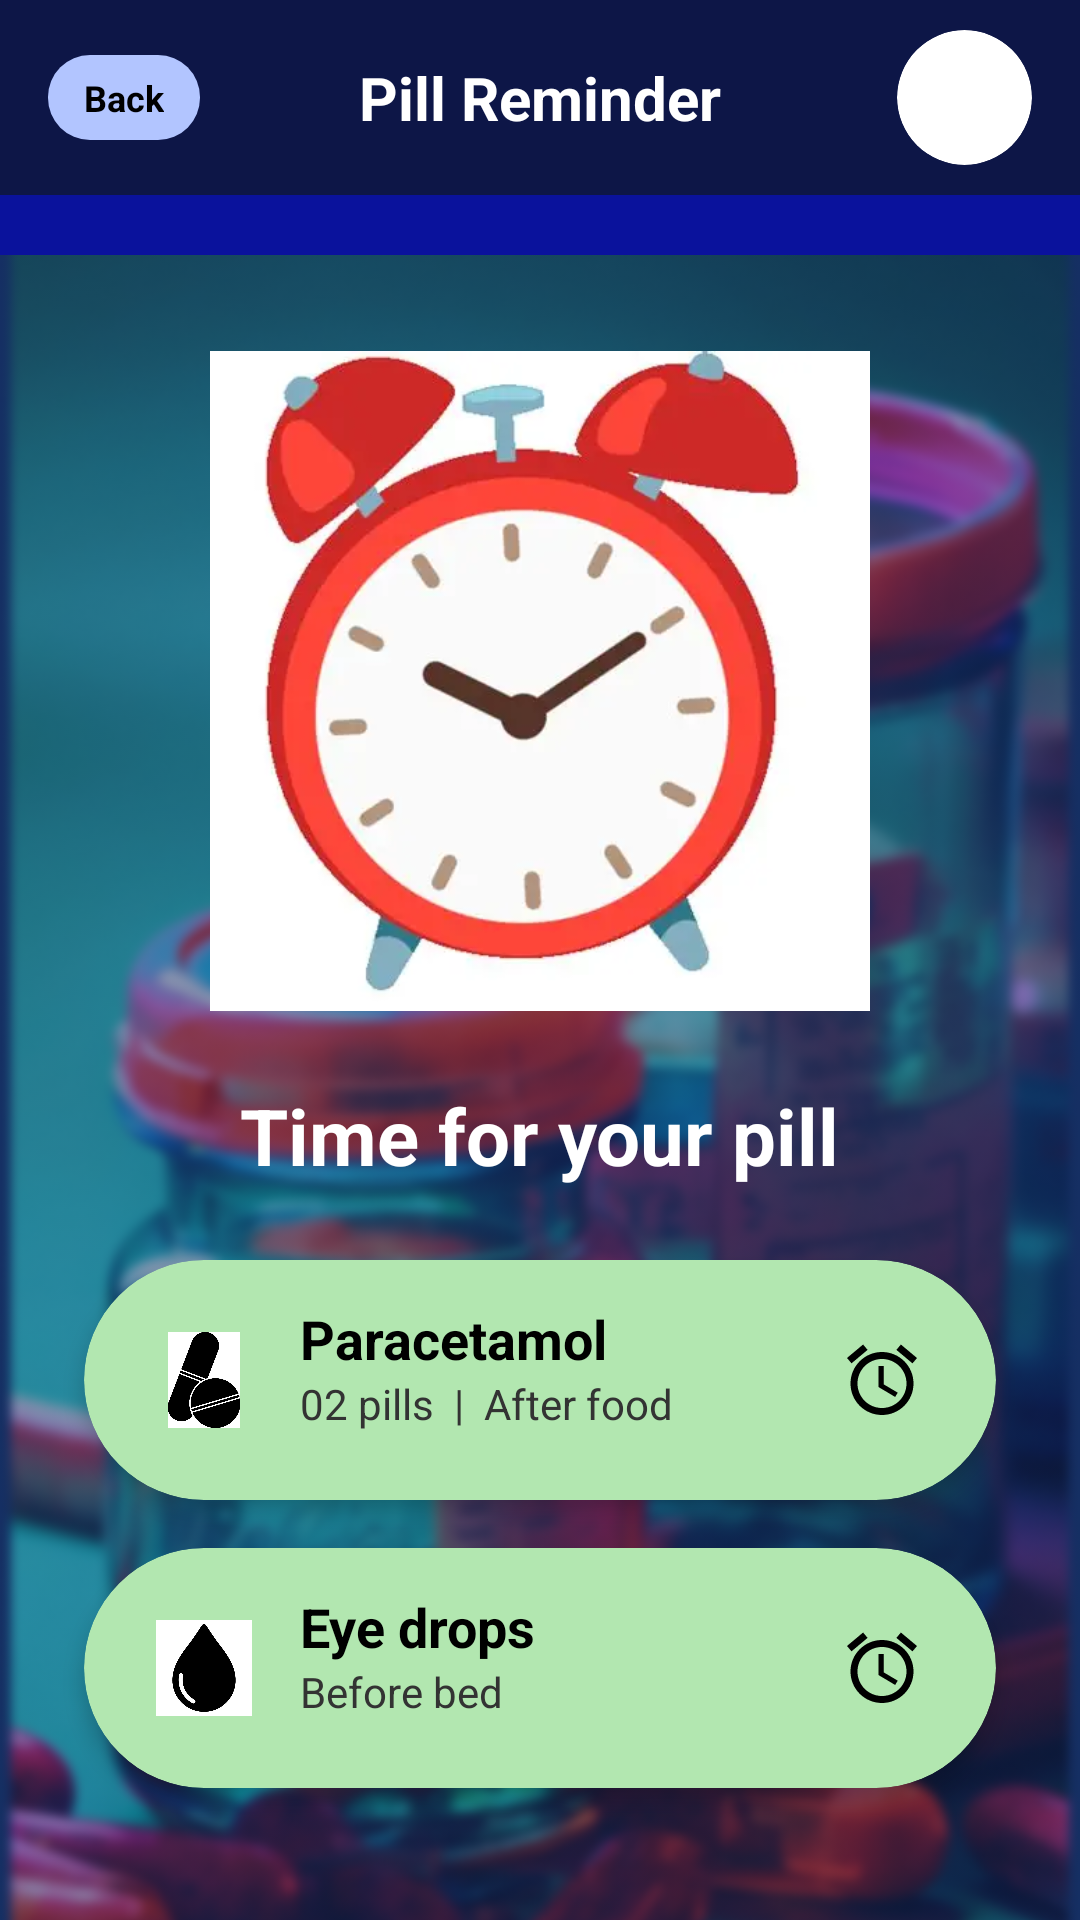

Point at icon controls on the screen. Image size 1080w x 1920h, points as [x,y].
reminder: [882,1379], [882,1667]
